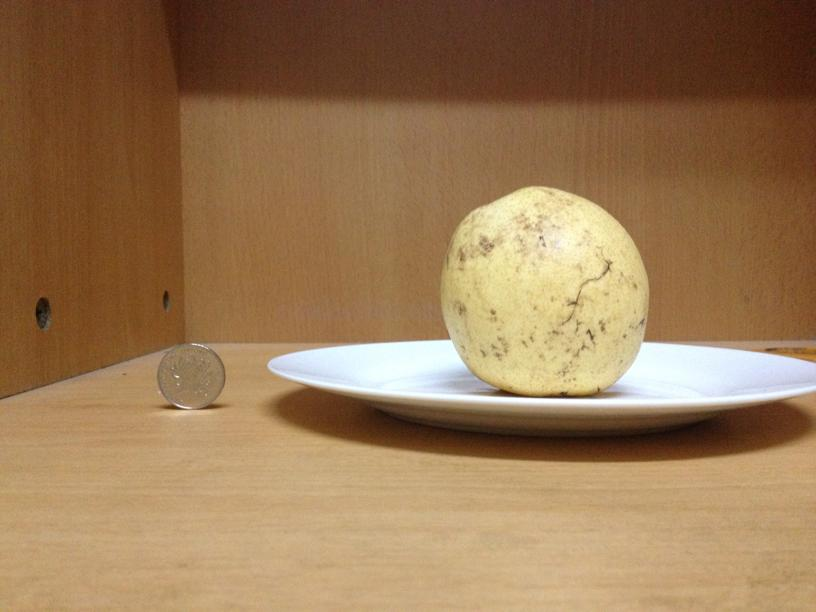coin: (158, 342, 225, 410)
pear: (440, 179, 651, 394)
